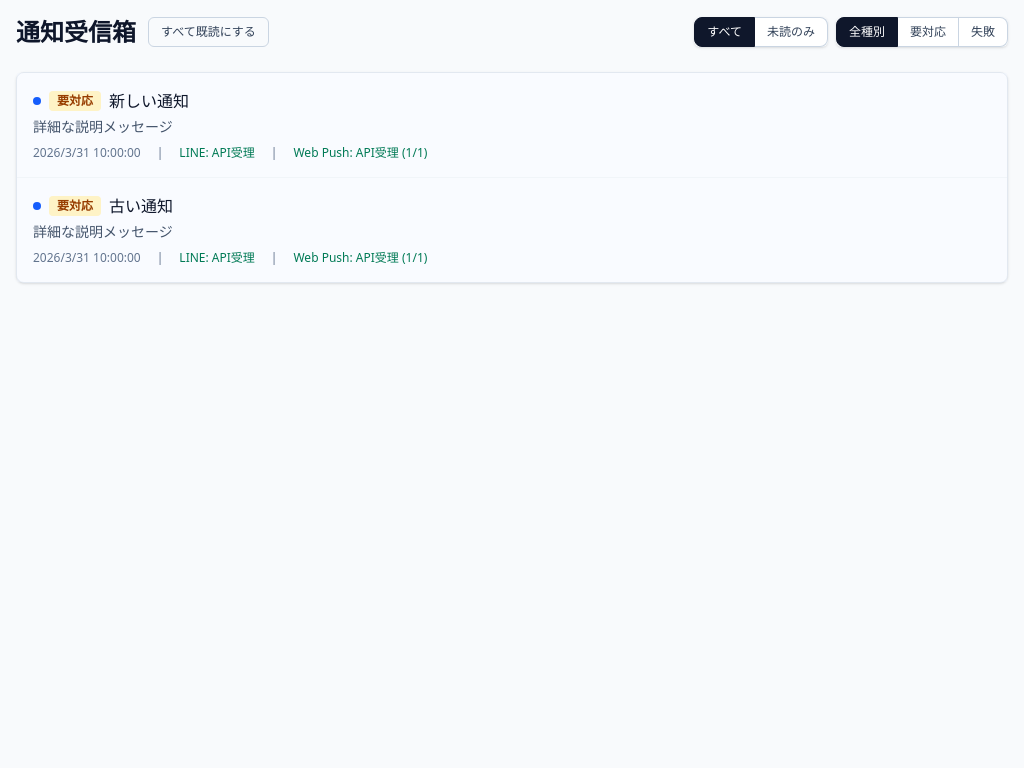
Scenario: NotificationsPage › navigates to the next notification within the page and marks it read
Click the heading "新しい通知": (149, 101) [109,89,189,113]
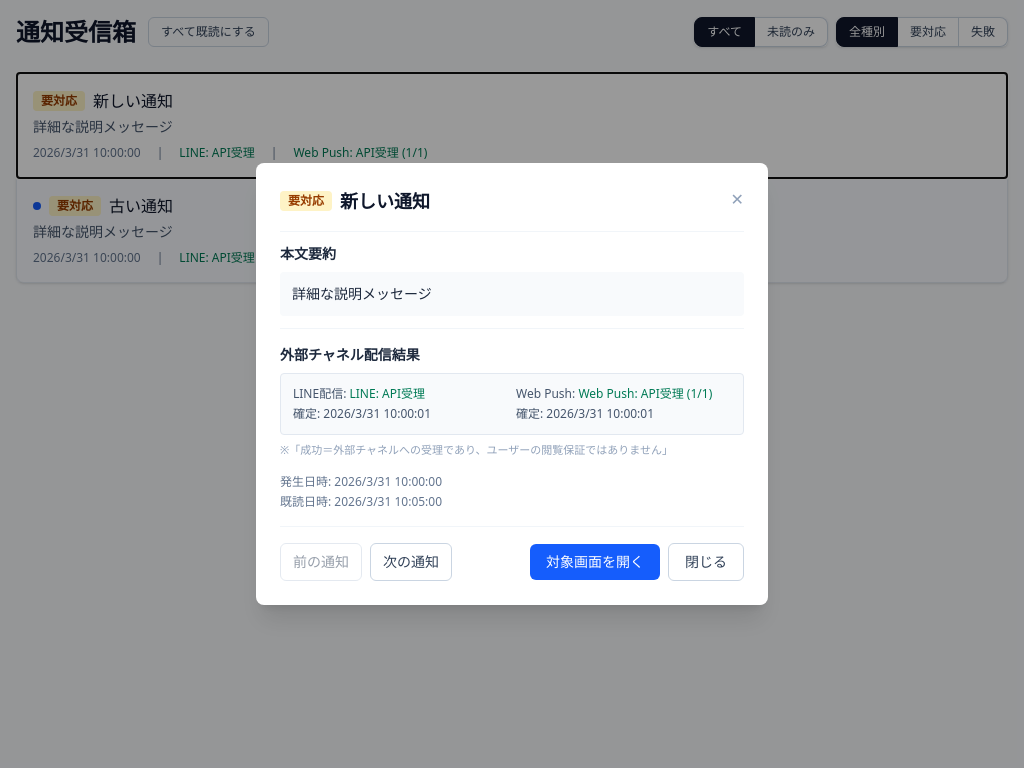
Now the button with test id "notification-prev" is disabled, box [280,543,362,581]
Now the button with test id "notification-next" is enabled
Click the button with test id "notification-next": (411, 562) [370,543,452,581]
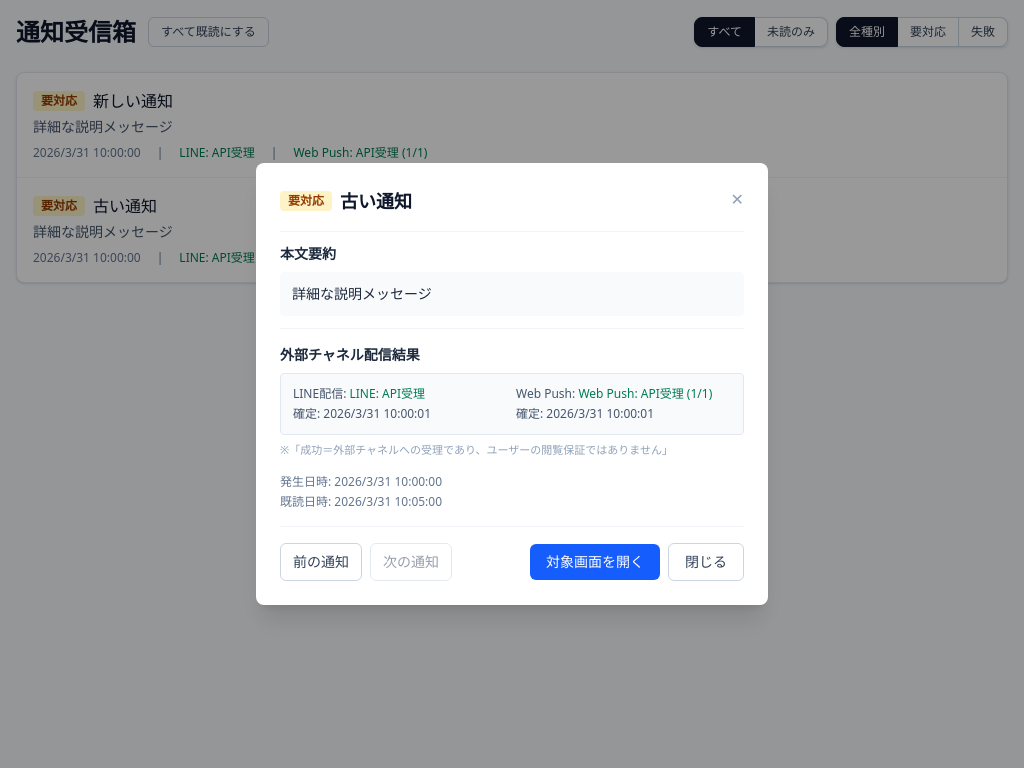
Now the button with test id "notification-prev" is enabled, box [280,543,362,581]
Now the button with test id "notification-next" is disabled, box [370,543,452,581]
